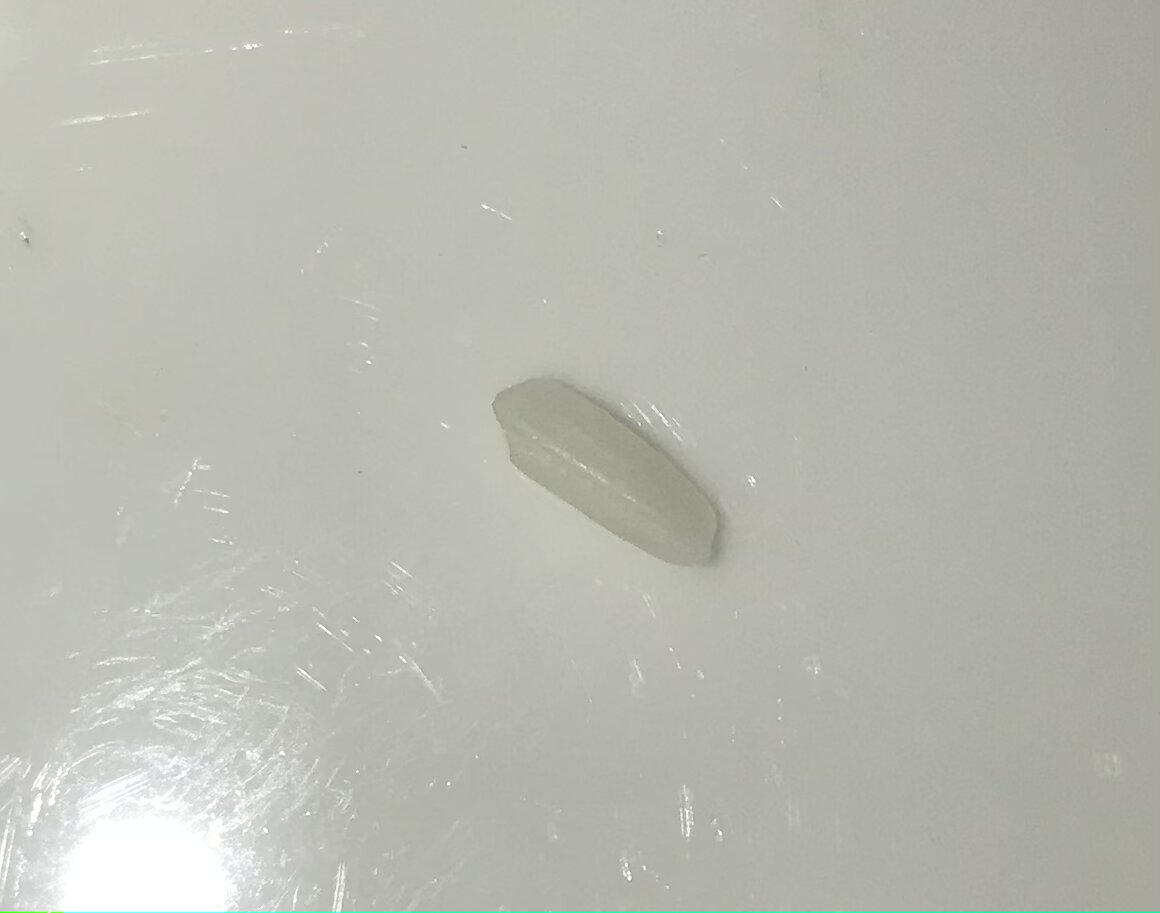Gao Lai Sua: (489, 367, 727, 575)
